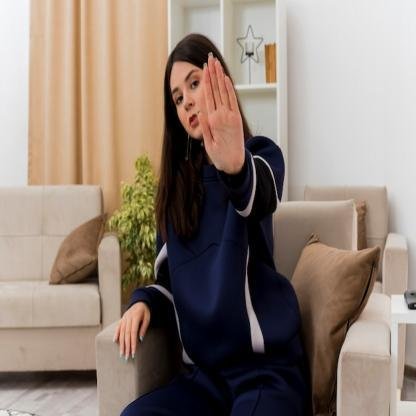stop: (194, 49, 247, 177)
